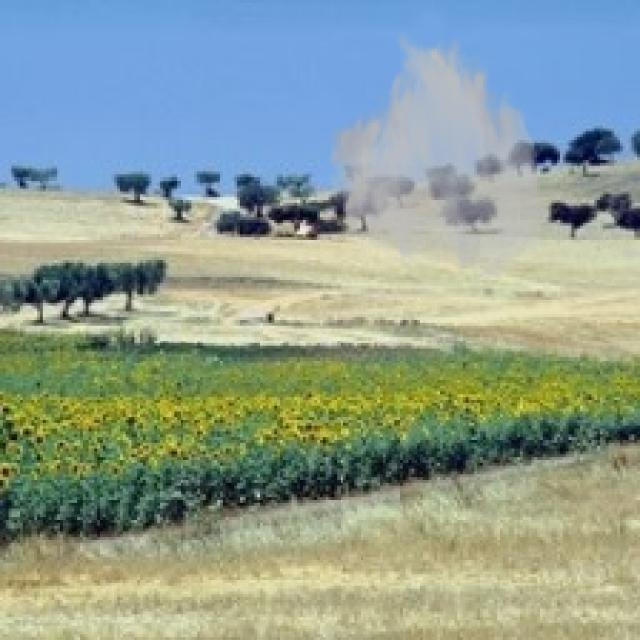smoke: (326, 28, 548, 286)
